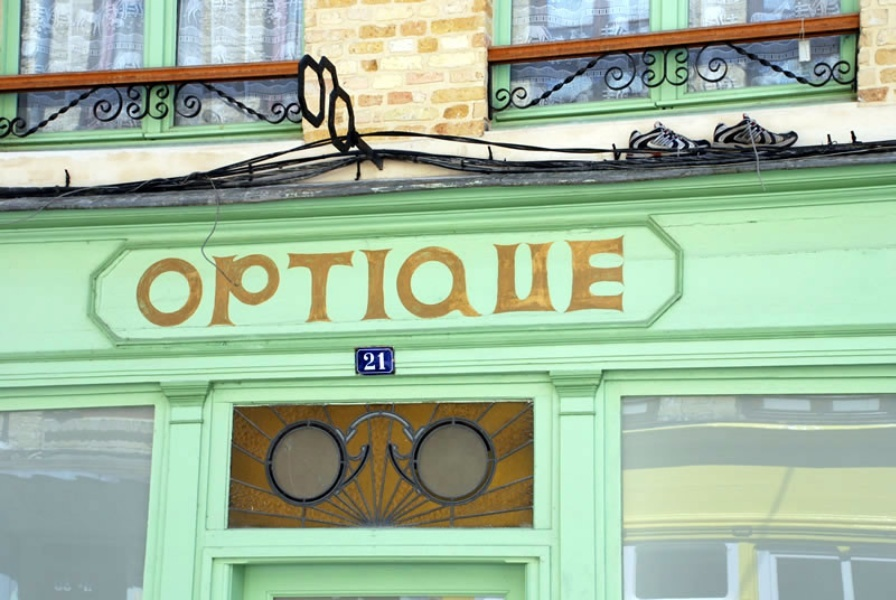text: (145, 234, 160, 330), (161, 234, 176, 330), (177, 234, 192, 330), (193, 234, 208, 330), (209, 234, 224, 330), (225, 234, 240, 330), (241, 234, 256, 330), (257, 234, 272, 330), (273, 234, 288, 330), (289, 234, 304, 330), (305, 234, 320, 330), (321, 234, 336, 330), (337, 234, 352, 330), (353, 234, 368, 330), (369, 234, 384, 330), (385, 234, 400, 330), (401, 234, 416, 330), (417, 234, 432, 330), (433, 234, 448, 330), (449, 234, 464, 330), (465, 234, 480, 330), (481, 234, 496, 330), (497, 234, 512, 330), (513, 234, 528, 330), (529, 234, 544, 330), (545, 234, 560, 330), (561, 234, 576, 330), (577, 234, 592, 330), (593, 234, 608, 330), (609, 234, 624, 330), (138, 234, 144, 330), (369, 352, 384, 370), (625, 234, 627, 330), (363, 352, 368, 370), (385, 352, 387, 370)
